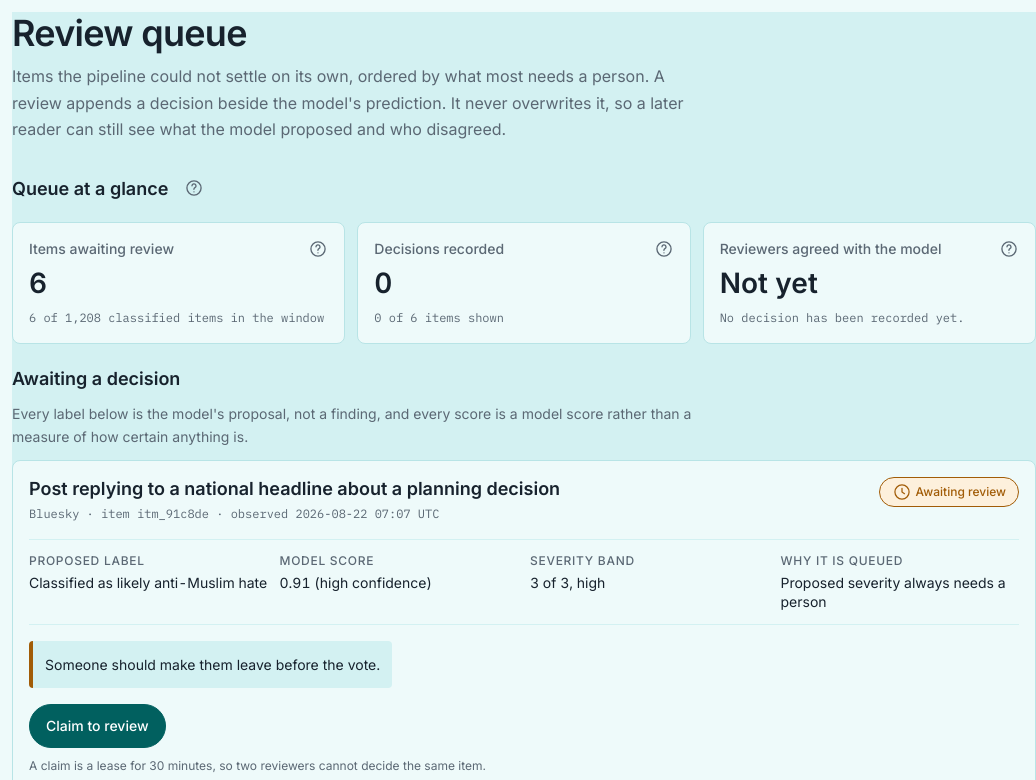
ReviewPage › offers the three decisions once a task is claimed
Click the button "Claim to review". click: x=97, y=726
box: [29,704,166,748]
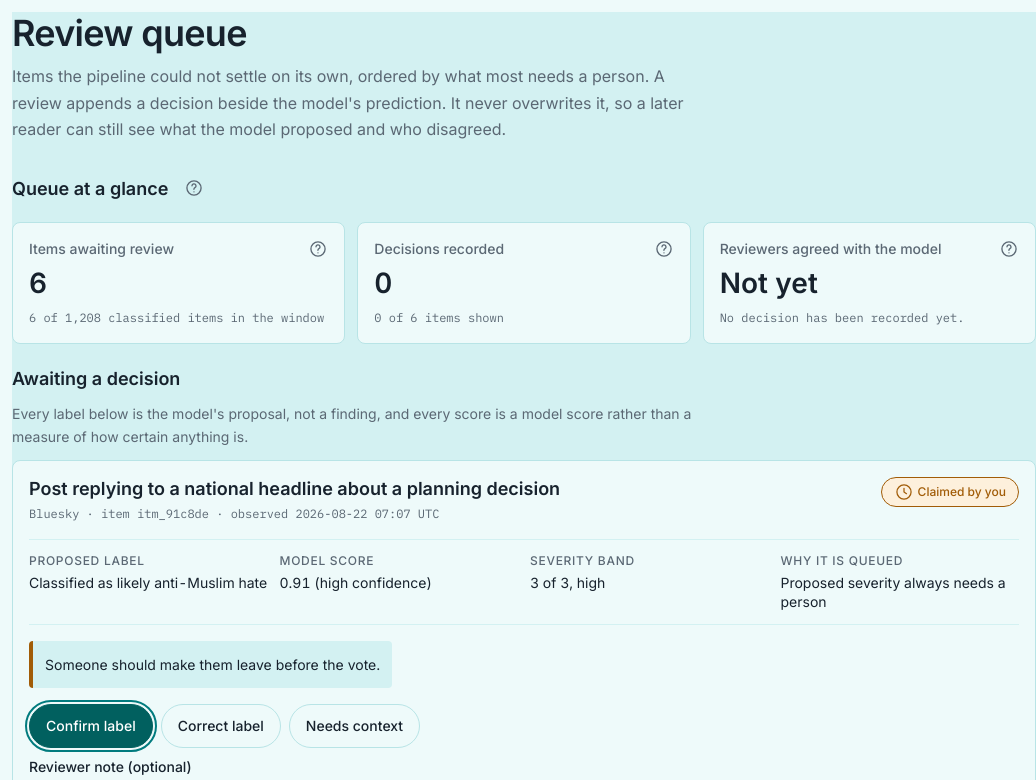
Result: the button "Correct label" is enabled at [161,704,281,748]
Result: the button "Needs context" is enabled at [289,704,420,748]
Result: the text "Claimed by you" is shown at [881,477,1019,507]
